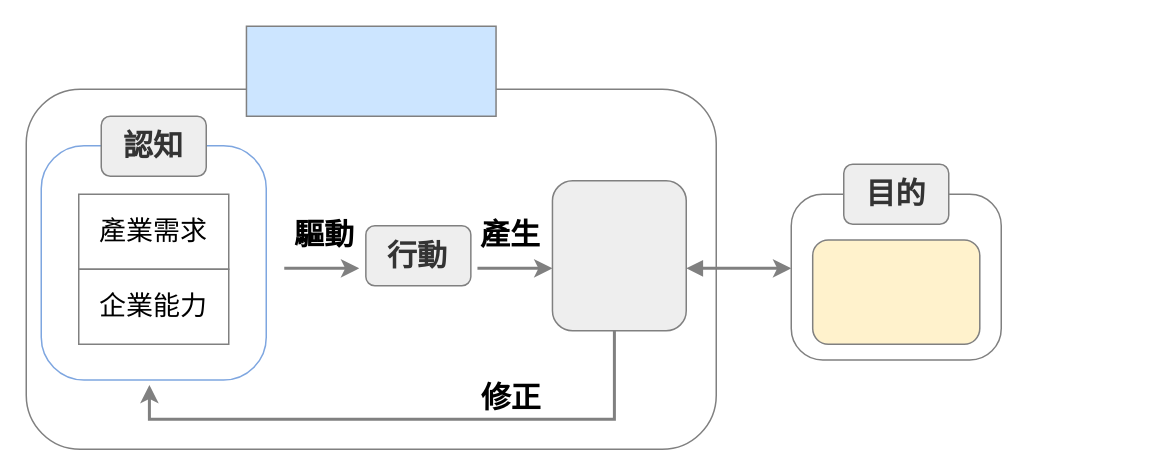
This 1169x476 diagram has some shape labels left out. The shapes that lost their labels are listed below. From the top down, each one's centre as x and y in pixels, then its label:
At (370,70): "科技可供性制定".
At (618,255): "階段性 數位創新 結果".
At (895,291): "數位創新 產業生態系".
